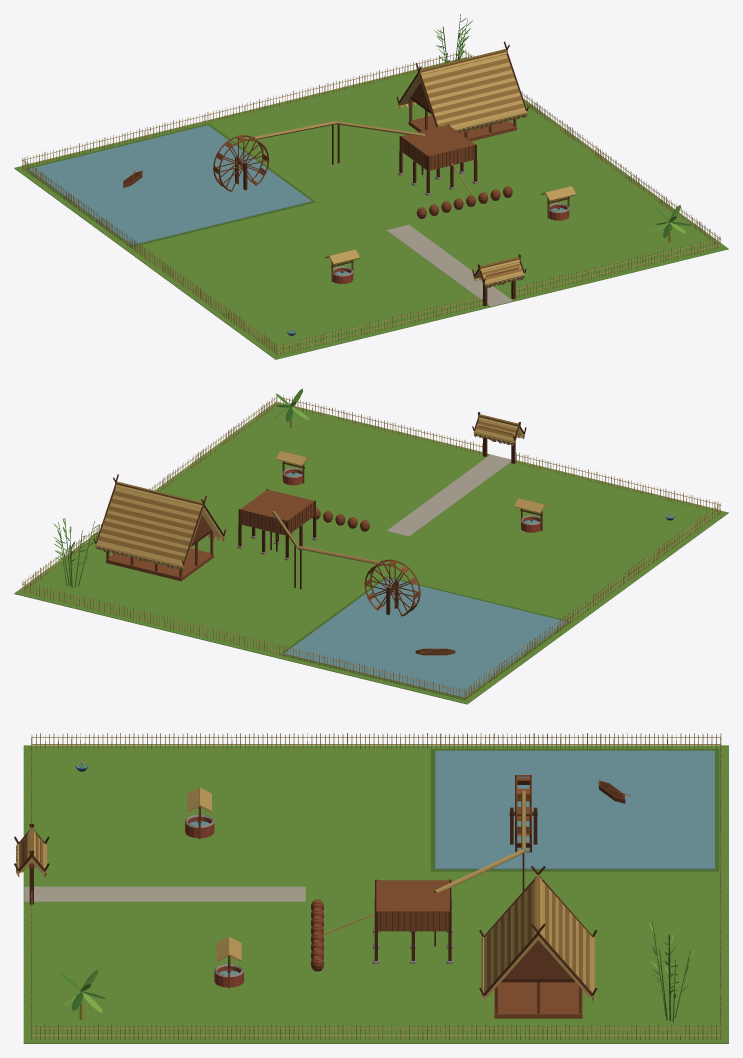
Rendered from water_works.glb.
3 views of the same model, one above another, from view 1: azimuth 30°, elevation 25°; view 2: azimuth 150°, elevation 25°; view 3: azimuth 270°, elevation 25° (orthographic). The views are drawn at different scales.
Visible parts, largest first — view 1: body; view 2: body; view 3: body.
Part boxes in pixels (bbox=[...]): body: bbox=[14, 14, 728, 359]; body: bbox=[14, 388, 728, 704]; body: bbox=[14, 733, 728, 1043].
Bounding box in the file's own units: 47.9 × 7.81 × 48.56.
